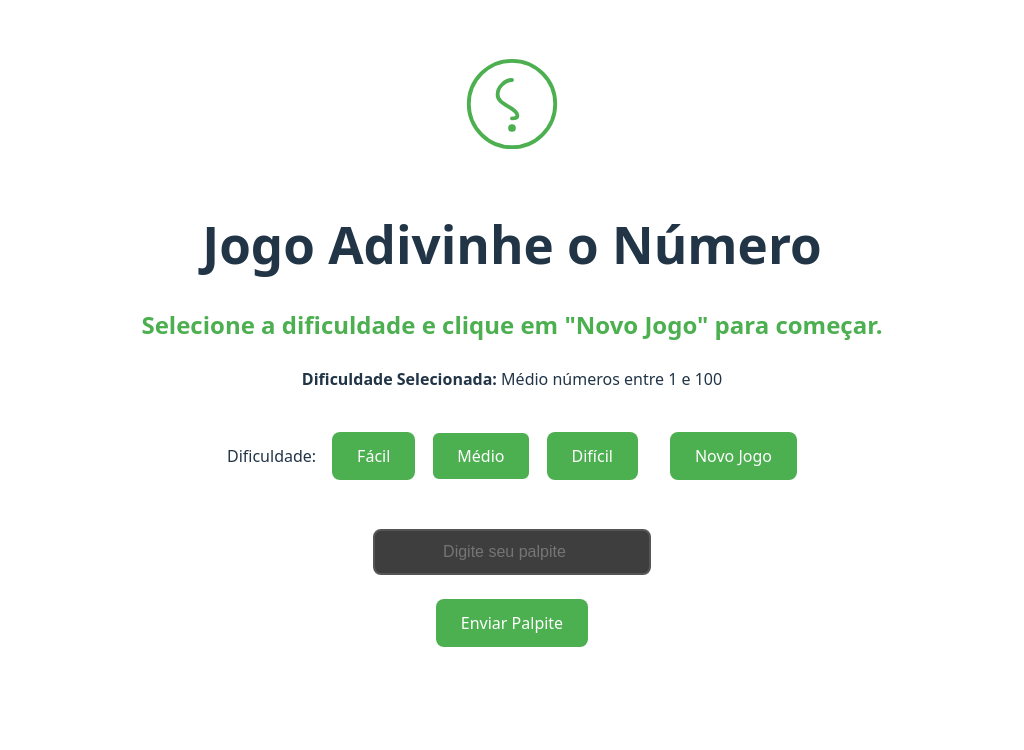
Test: Componente App › deve permitir que um usuário jogue uma partida completa e salve sua pontuação
Click the button "Novo Jogo": click(733, 456) 670,432 -> 797,480
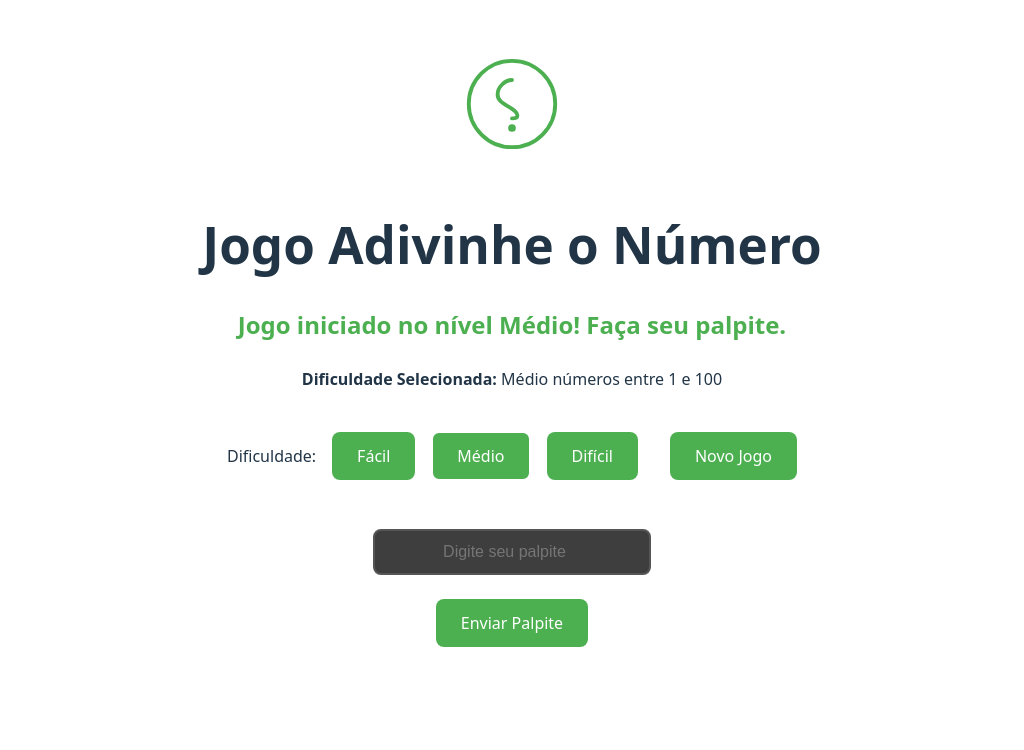
Note: Digita um palpite
In the number field with placeholder "Digite seu palpite": (512, 552) 373,529 -> 651,575, type "10"
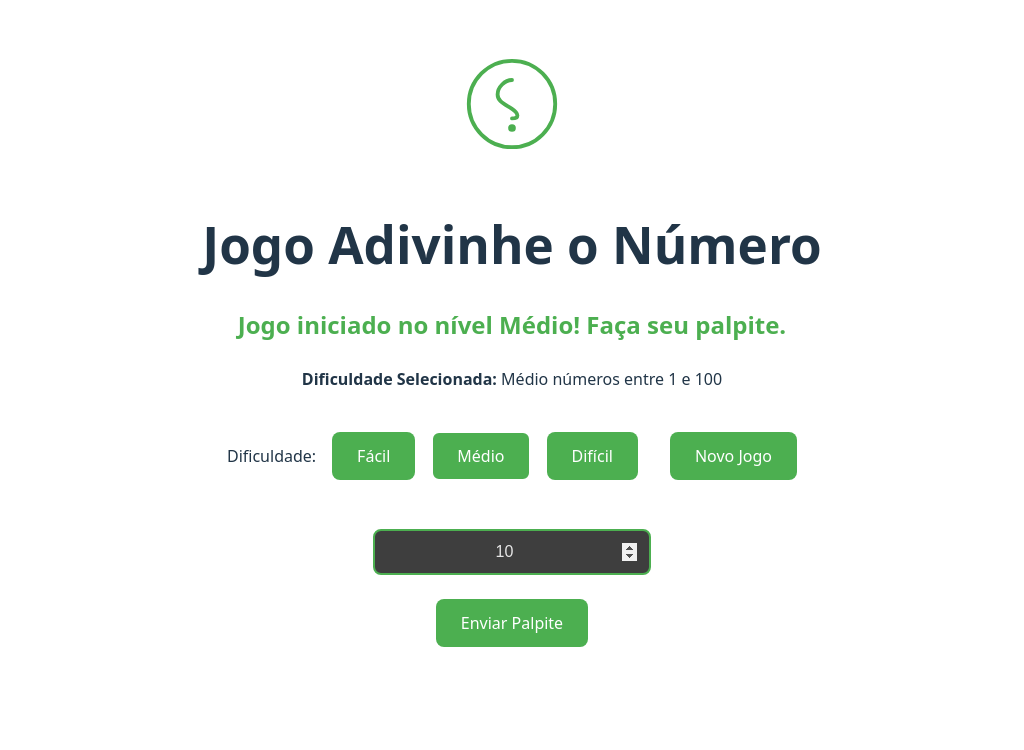
Note: Envia o palpite
Click the button "Enviar Palpite": click(512, 623) 436,599 -> 588,647
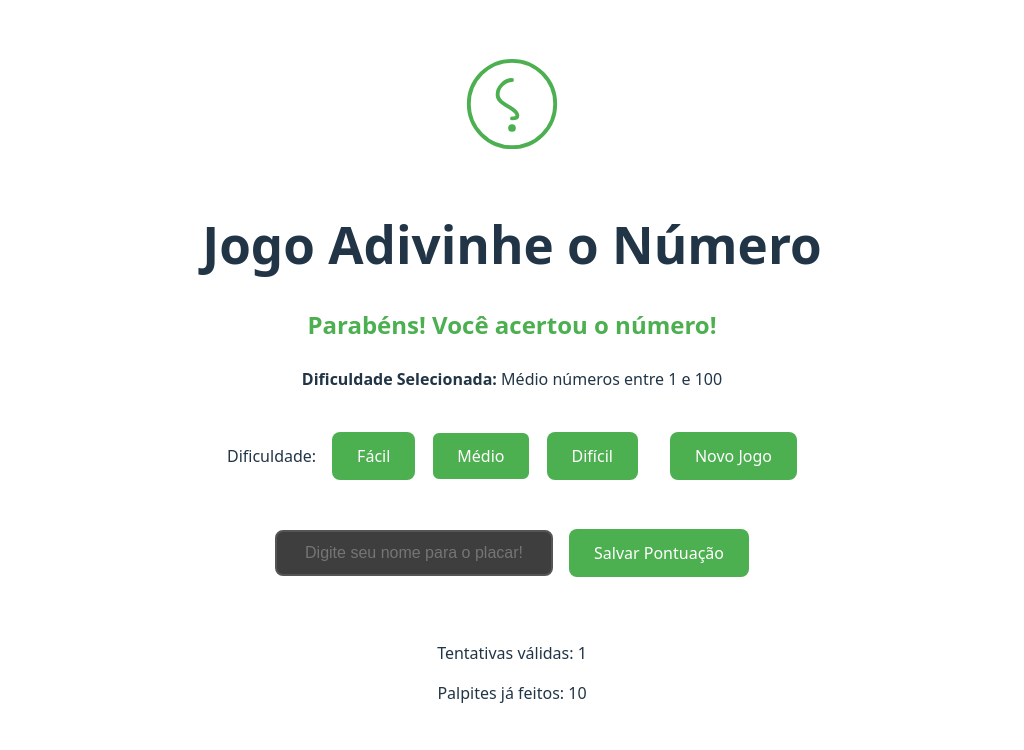
Note: O jogo acaba, o formulário de nome aparece. Digita o nome.
In the field with placeholder "Digite seu nome para o placar!": (414, 553) 275,530 -> 553,576, type "Jogador Teste"
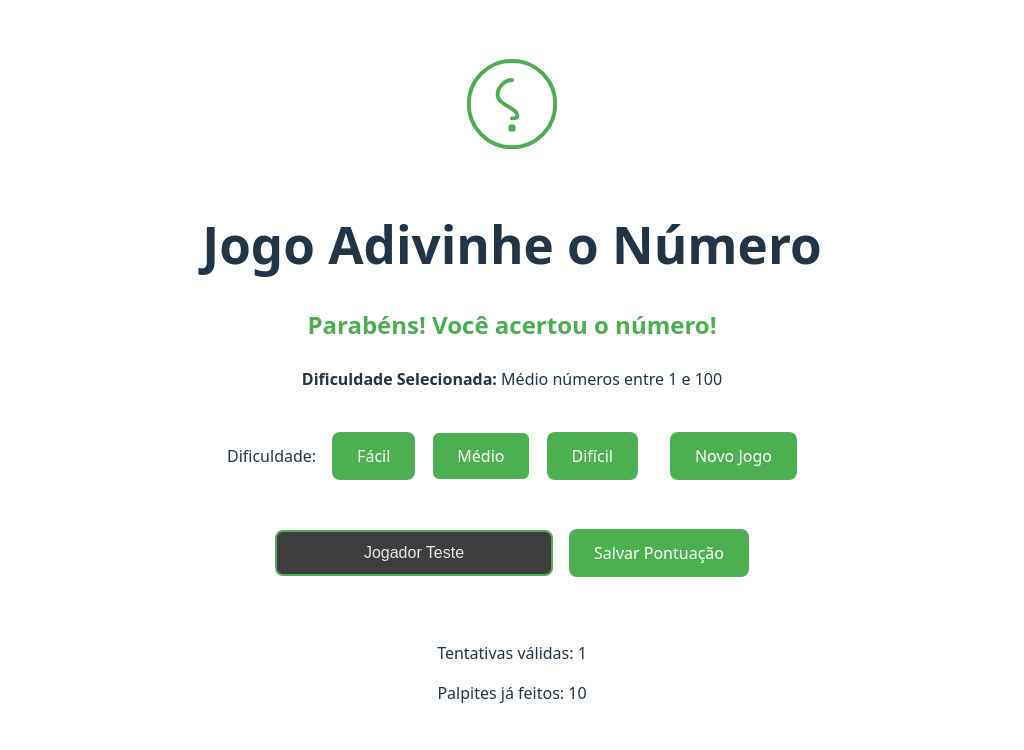
Note: Salva a pontuação
Click the button "Salvar Pontuação": click(659, 553) 569,529 -> 749,577
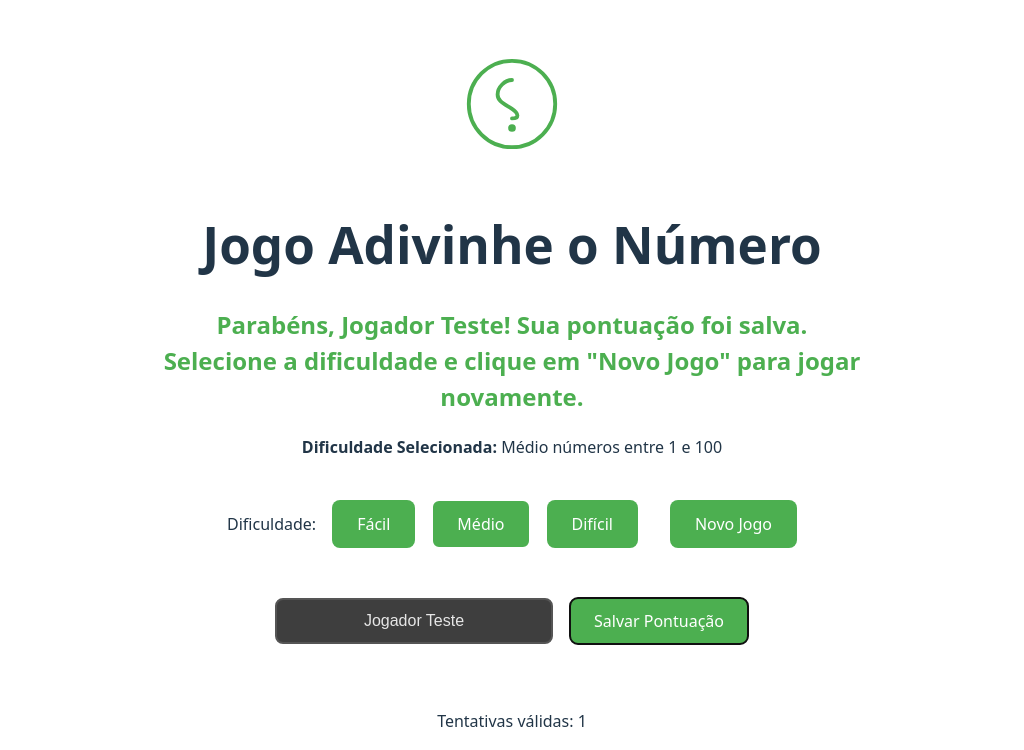
expect the field with placeholder "digite seu palpite" is not shown: met
expect the heading "Sua pontuação foi salva" is shown: met, box 504,308 -> 808,341
